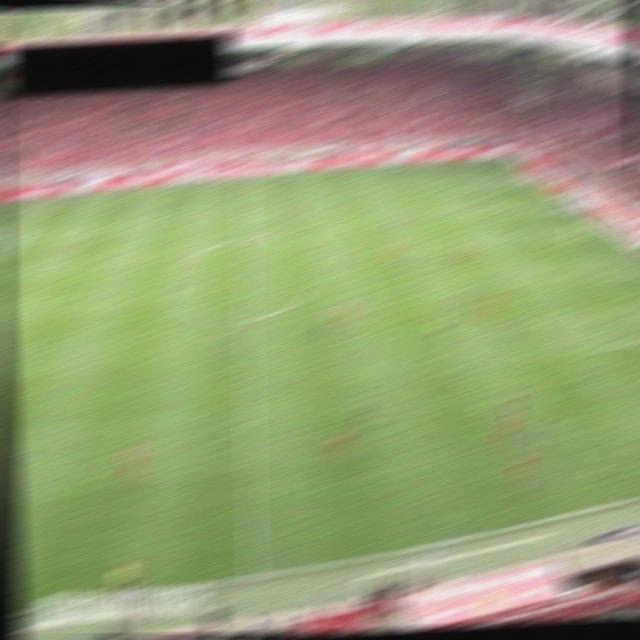bigarea_bottom_inner: (598, 340, 620, 352)
bigarea_top_inner: (442, 183, 467, 196), (17, 226, 39, 235)
bigarea_top_outter: (524, 180, 544, 188)
bottom_arc_area_intersection: (529, 270, 550, 279)
corner: (490, 155, 510, 164)
halfcircle_bottom: (234, 313, 257, 324)
halfcircle_top: (234, 232, 256, 244)
midline_bottom_intersection: (238, 568, 266, 585)
midline_top_intersection: (234, 173, 255, 183)
smallarea_bottom_inner: (612, 271, 633, 279)
smallarea_top_inner: (534, 208, 555, 218)
smallarea_top_outter: (561, 205, 582, 214)
top_arc_area_intersection: (475, 214, 500, 228)
